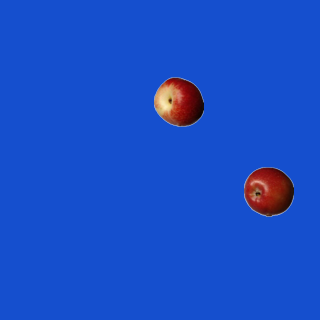Apple Braeburn: (243, 166, 293, 216)
Nectarine: (153, 76, 203, 126)
